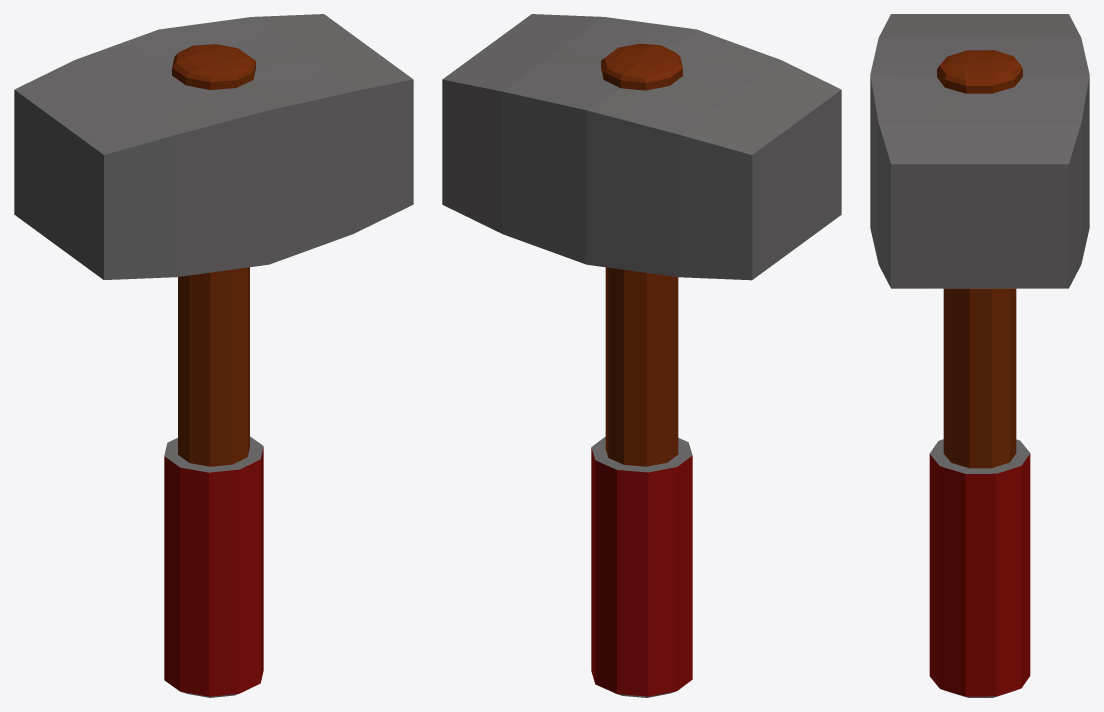
Rendered from MARTILLO.fbx.
3 renders of one model, left to right at view 1: azimuth 30°, elevation 25°; view 2: azimuth 150°, elevation 25°; view 3: azimuth 270°, elevation 25°, orthographic.
Parts seen in each view (by area): view 1: Cube.002; view 2: Cube.002; view 3: Cube.002.
Part boxes in pixels (box(x1,y1,x2,y2)): Cube.002: box(14, 14, 413, 697); Cube.002: box(442, 14, 841, 697); Cube.002: box(870, 14, 1089, 697).
Bounding box in the file's own units: 0.2556 × 0.4941 × 0.1578.
